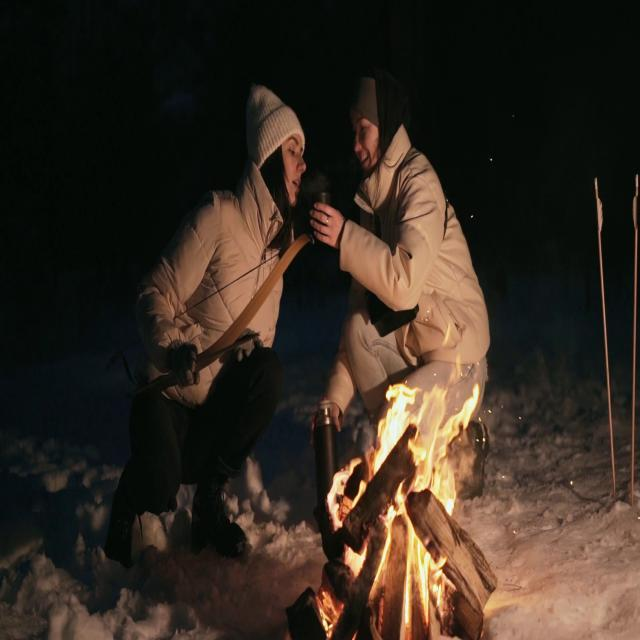Fire: (318, 353, 498, 634)
